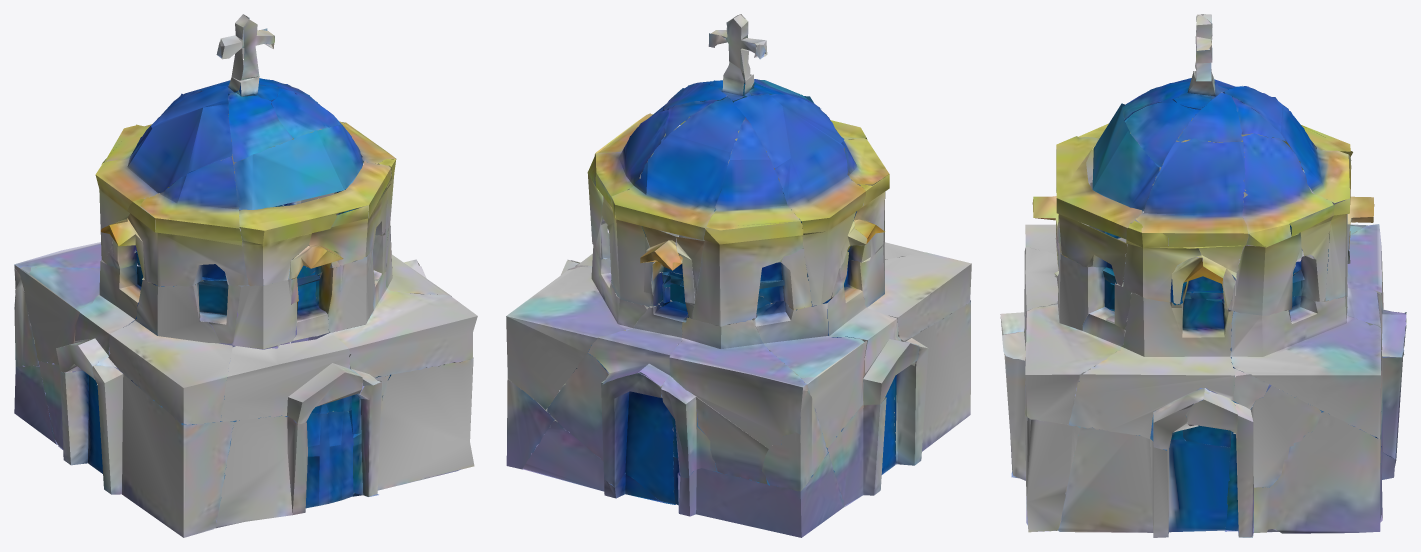
File: loc_sa_bld_bluedome_ai.glb
3 views of the same model, side by side, from view 1: azimuth 30°, elevation 25°; view 2: azimuth 150°, elevation 25°; view 3: azimuth 270°, elevation 25° (orthographic). The views are drawn at different scales.
Parts seen in each view (by area): view 1: tripo_node_2c4ef211-1110-4b7d-8865-e4363f1120a5; view 2: tripo_node_2c4ef211-1110-4b7d-8865-e4363f1120a5; view 3: tripo_node_2c4ef211-1110-4b7d-8865-e4363f1120a5.
Part boxes in pixels (left/top/right/bottom): tripo_node_2c4ef211-1110-4b7d-8865-e4363f1120a5: left=14, top=14, right=477, bottom=537; tripo_node_2c4ef211-1110-4b7d-8865-e4363f1120a5: left=506, top=14, right=971, bottom=537; tripo_node_2c4ef211-1110-4b7d-8865-e4363f1120a5: left=1000, top=14, right=1406, bottom=537.
Size of the model in its own units: 1.84 by 2.2 by 1.81.
1 material, 1 textured.
